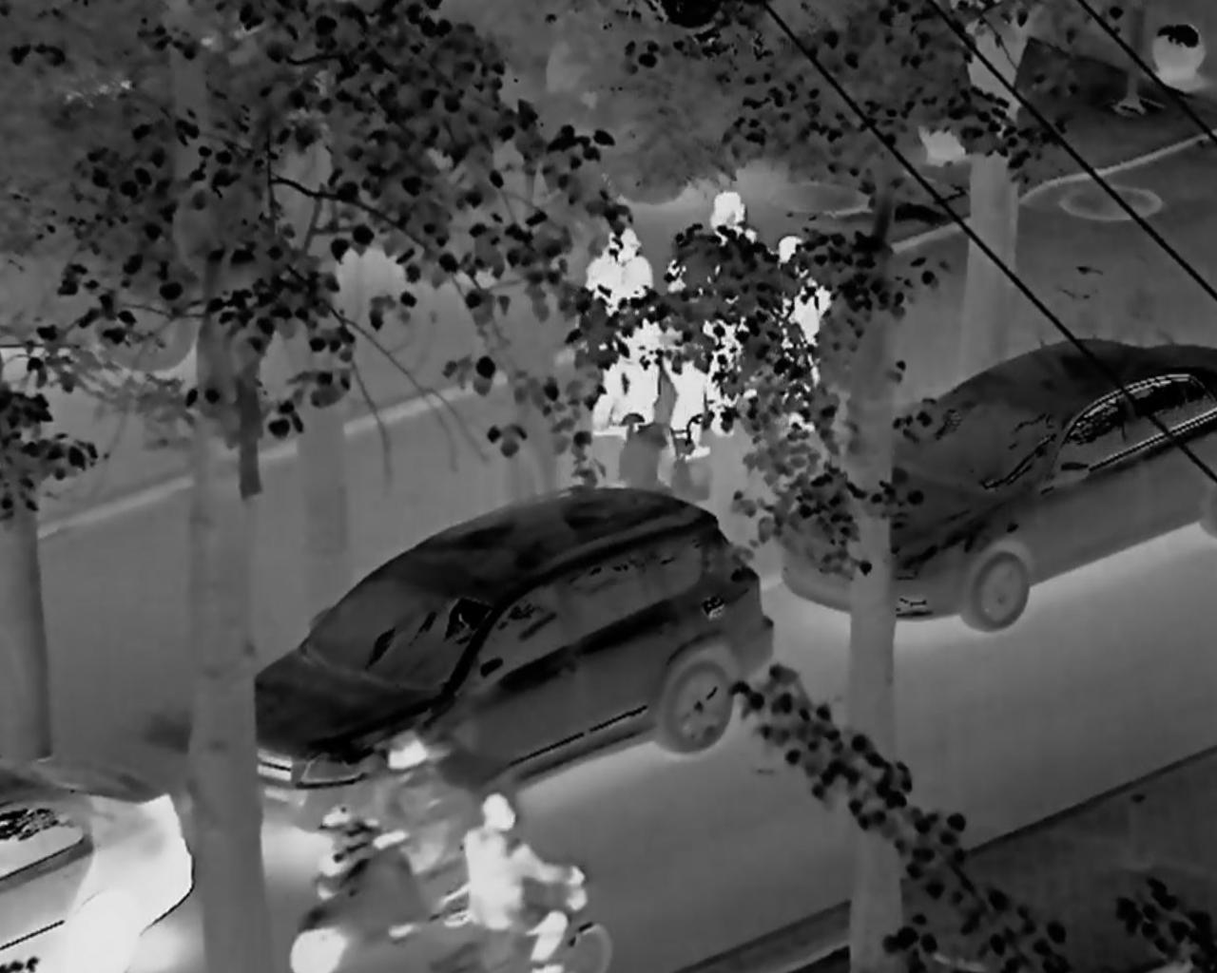person: (296, 728, 464, 973), (436, 787, 604, 973), (573, 219, 658, 429), (700, 191, 768, 410), (660, 238, 717, 468), (767, 237, 837, 398)
